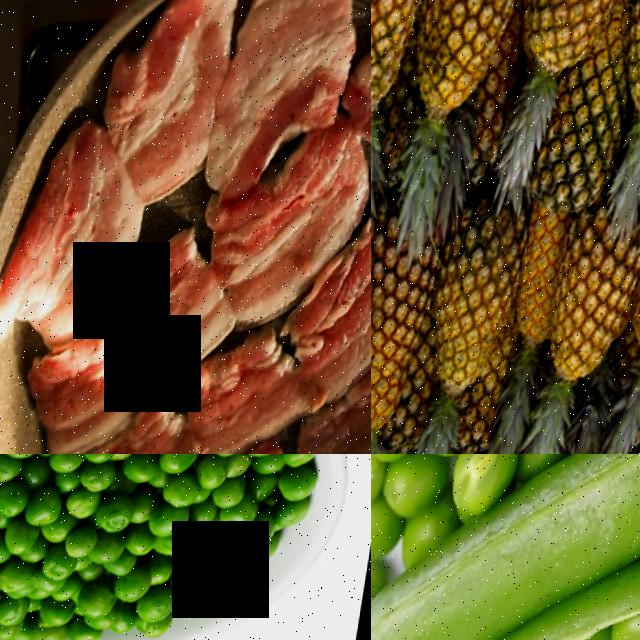peas: (0, 454, 320, 640), (371, 454, 573, 575), (463, 554, 640, 640)
pineapple: (432, 206, 530, 403), (371, 222, 446, 443), (407, 0, 517, 144), (546, 260, 637, 410), (510, 203, 573, 377), (512, 0, 618, 94), (371, 0, 430, 141), (615, 0, 640, 168)
pork belly: (202, 151, 366, 341), (103, 230, 249, 416), (285, 210, 371, 417), (18, 335, 136, 454), (87, 402, 208, 454), (306, 386, 371, 454)
